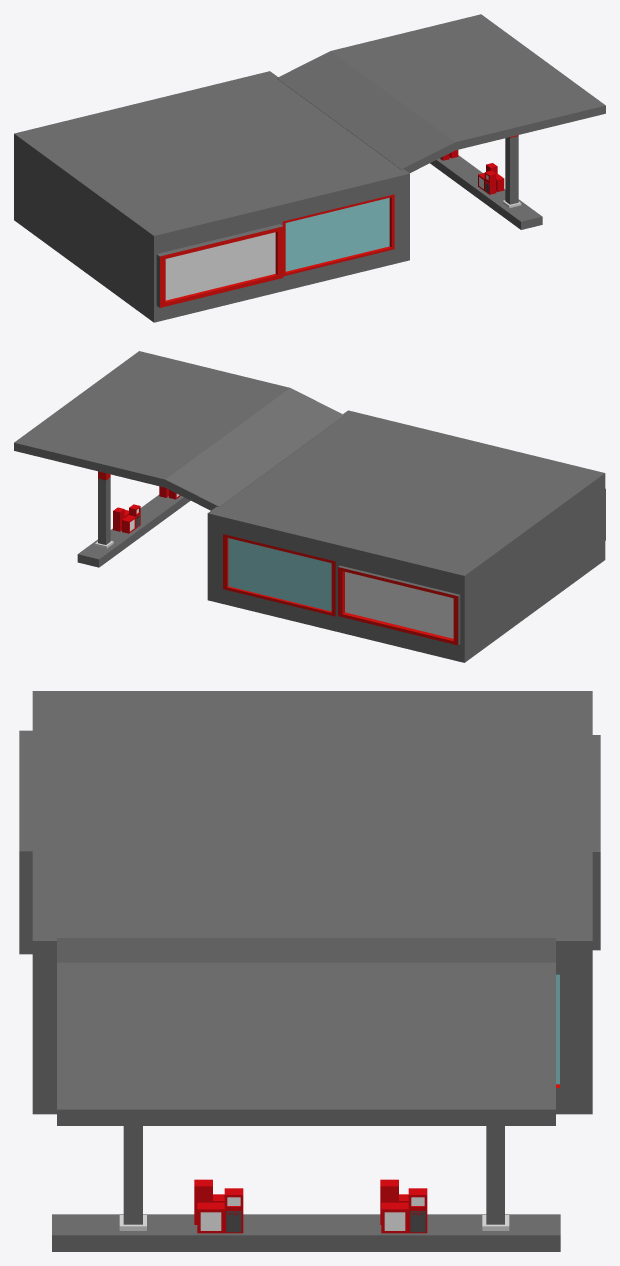
Rendered from stacja2_marzec.fbx.
3 views of the same model, one above another, from view 1: azimuth 30°, elevation 25°; view 2: azimuth 150°, elevation 25°; view 3: azimuth 270°, elevation 25° (orthographic). The views are drawn at different scales.
Visible parts, largest first — view 1: Cube, reklama; view 2: Cube, reklama2; view 3: Cube, Cube.001, Cube.002.
Part boxes in pixels (bbox=[...]): Cube: bbox=[14, 14, 605, 322]; reklama: bbox=[165, 232, 275, 300]; Cube: bbox=[14, 351, 605, 662]; reklama2: bbox=[345, 572, 453, 638]; Cube: bbox=[19, 691, 600, 1251]; Cube.001: bbox=[197, 1188, 243, 1233]; Cube.002: bbox=[381, 1188, 427, 1233].
Size of the model in its own units: 7772 by 1665 by 4271.
